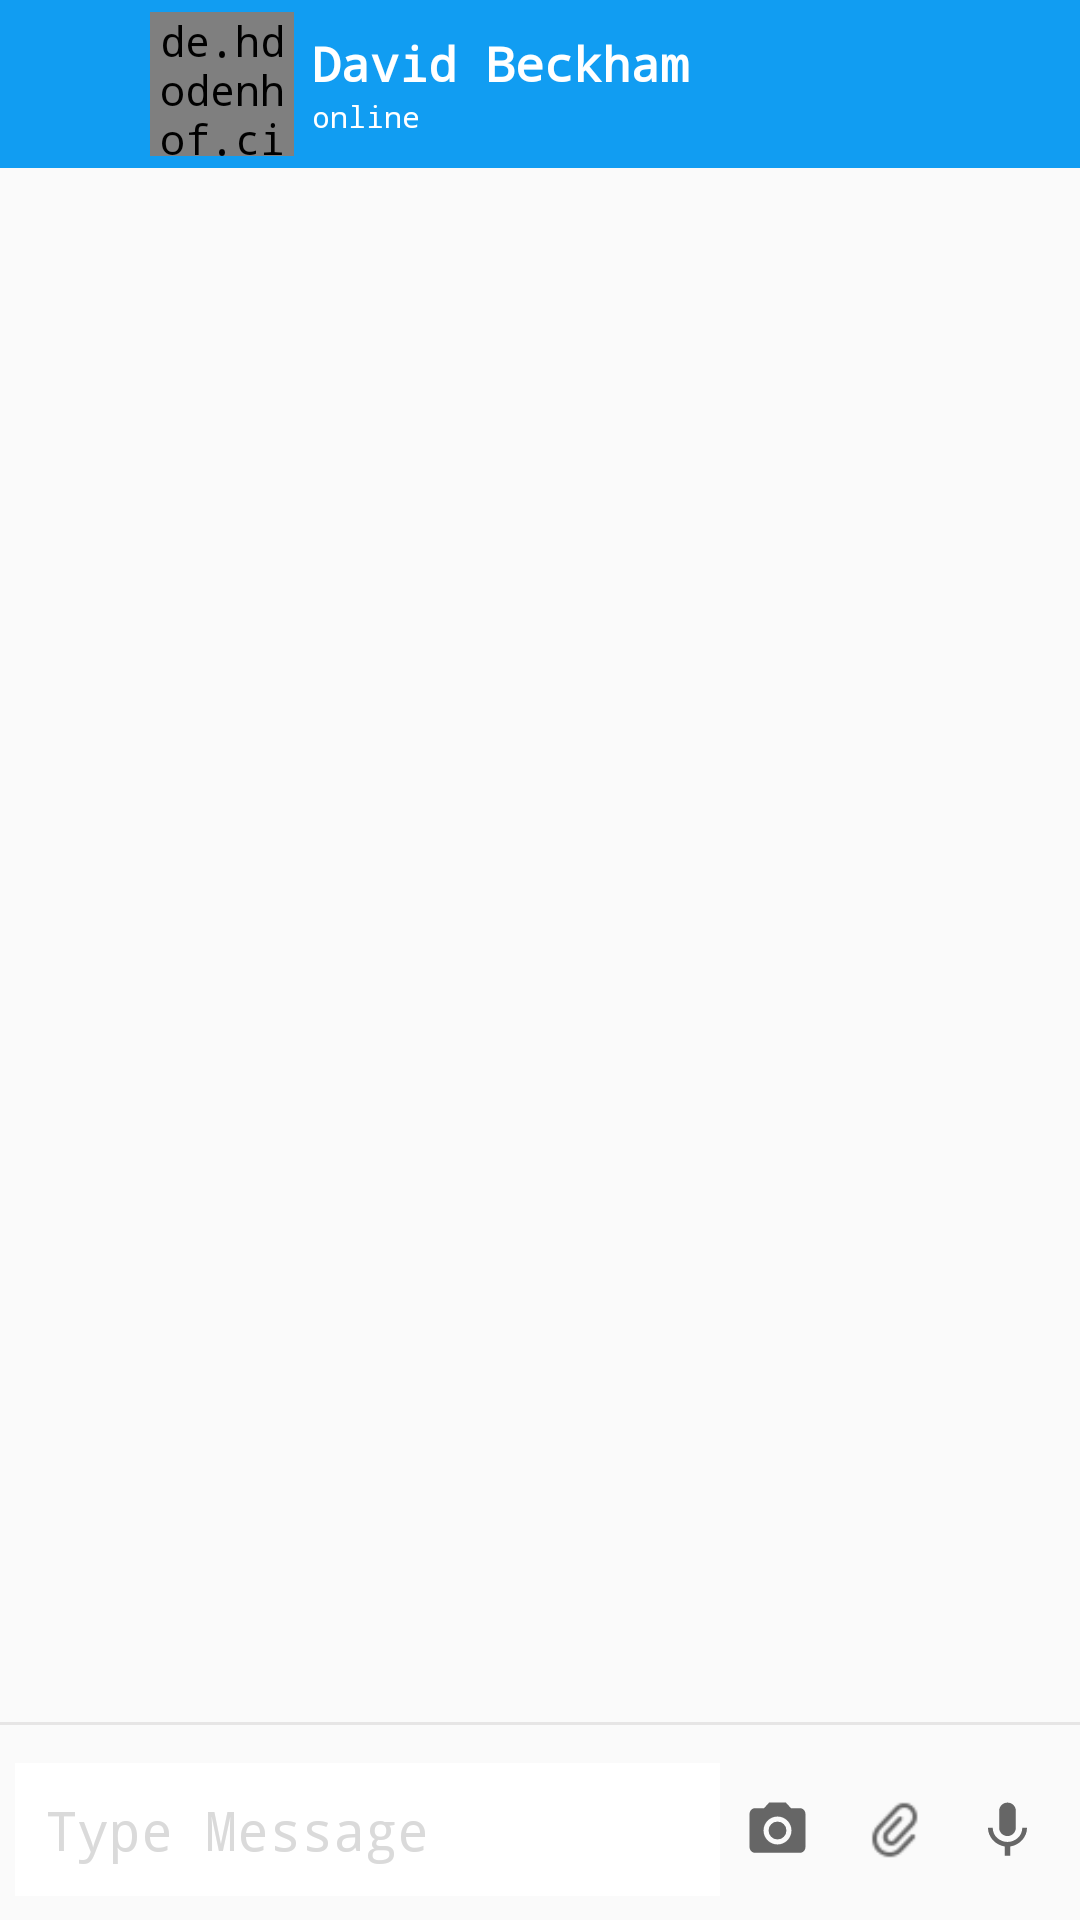

Screen size 1080px×1920px. Icon name, then its center in pixels as point (x, y):
camera: point (777, 1827)
mic: point (1007, 1829)
